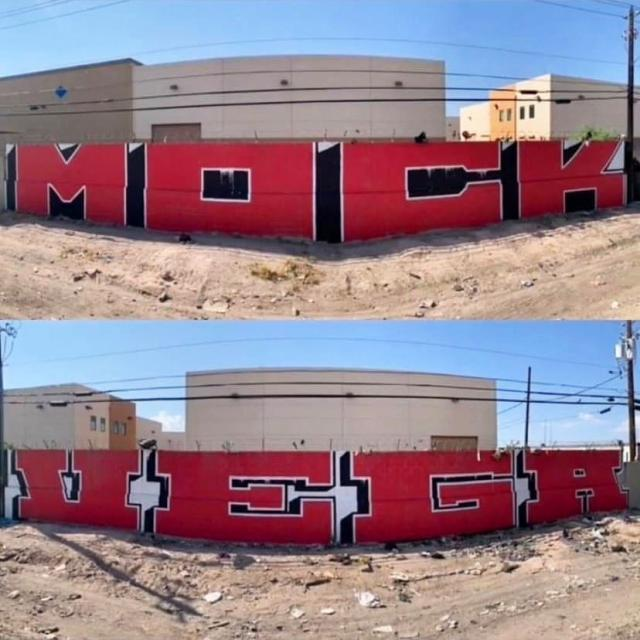-: (6, 140, 630, 244), (1, 450, 632, 548)
